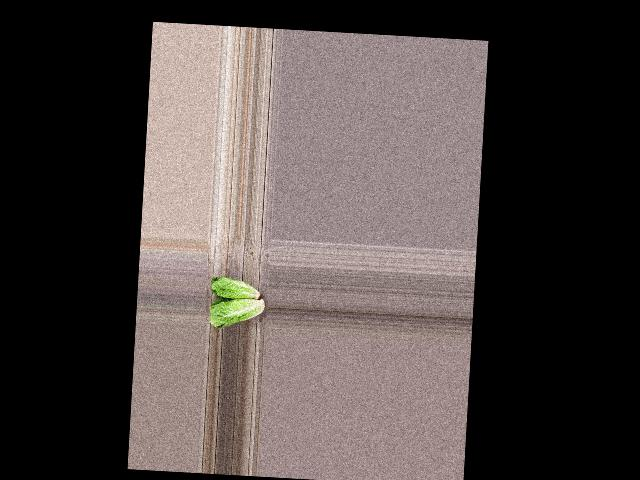lettuce: (206, 295, 267, 331)
